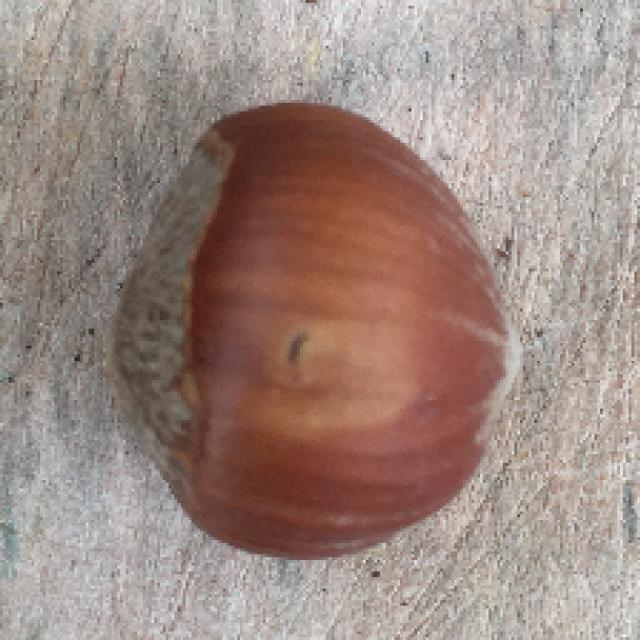qualityHazelnut: (110, 82, 528, 569)
